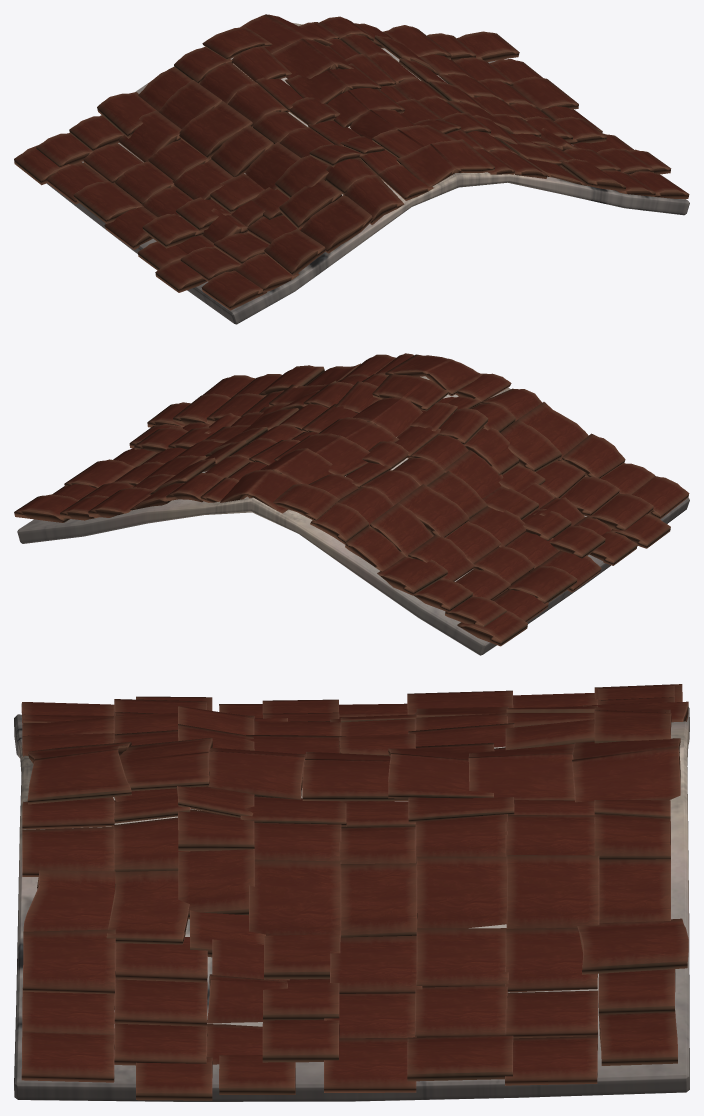
File: Roof_V3.fbx
The picture shows the model from 3 angles, top to bottom: view 1: azimuth 30°, elevation 25°; view 2: azimuth 150°, elevation 25°; view 3: azimuth 270°, elevation 25°; orthographic projection. The views are drawn at different scales.
Visible parts, largest first — view 1: Roof_Tile1.011; view 2: Roof_Tile1.011; view 3: Roof_Tile1.011.
Part boxes in pixels (box(x1,y1,x2,y2)): Roof_Tile1.011: box(14, 14, 689, 324); Roof_Tile1.011: box(14, 353, 689, 655); Roof_Tile1.011: box(14, 684, 689, 1101).
Size of the model in its own units: 589 by 125 by 425.
